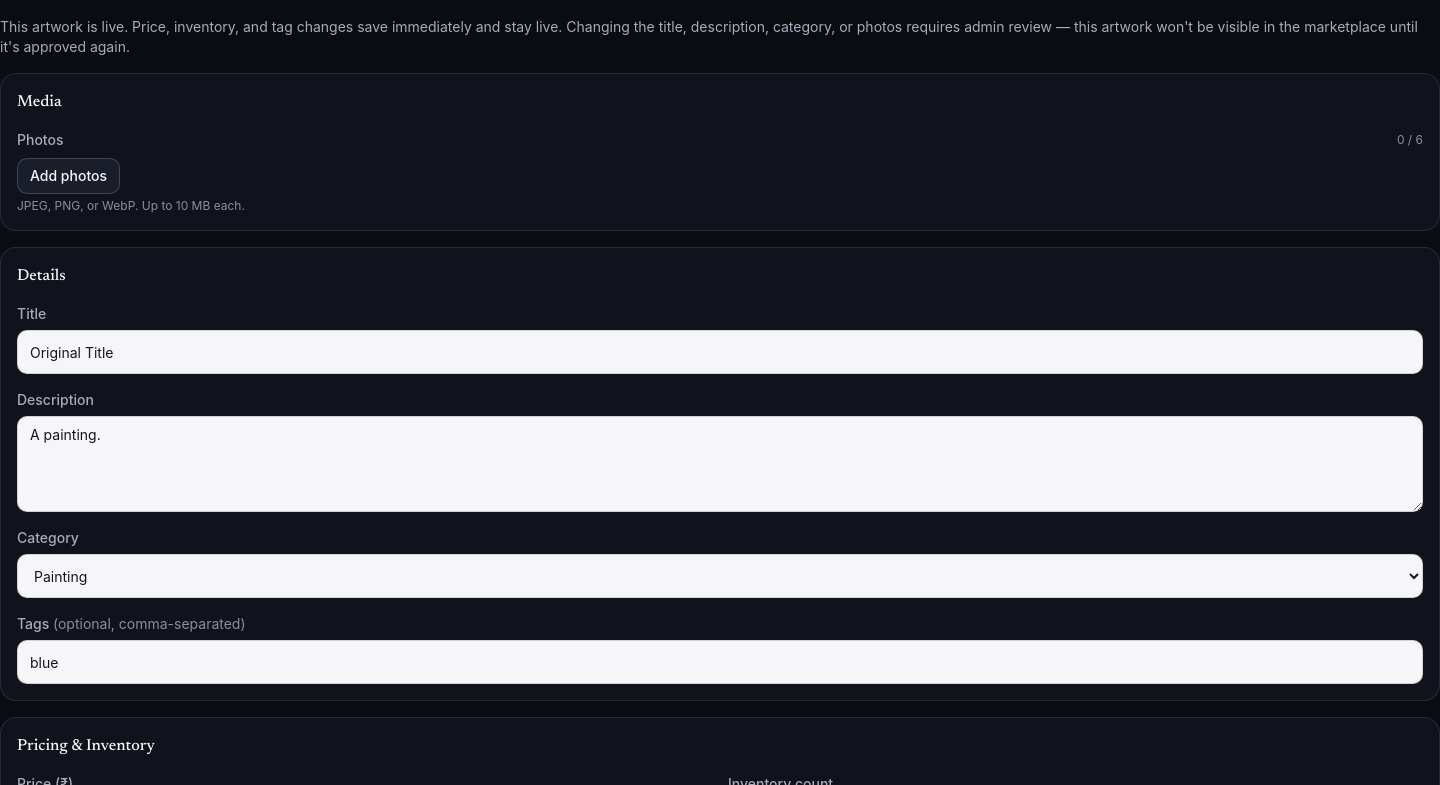
Test: ArtworkForm — edit mode (PUBLISHED, Module 13 Phase 4) › changing the title shows a confirmation before resubmitting for review — never a silent unpublish
Step 1. Replace the text in the field labelled "Title" with "New Title" → (720, 352), box [17,330,1423,374]
(page scrolled)
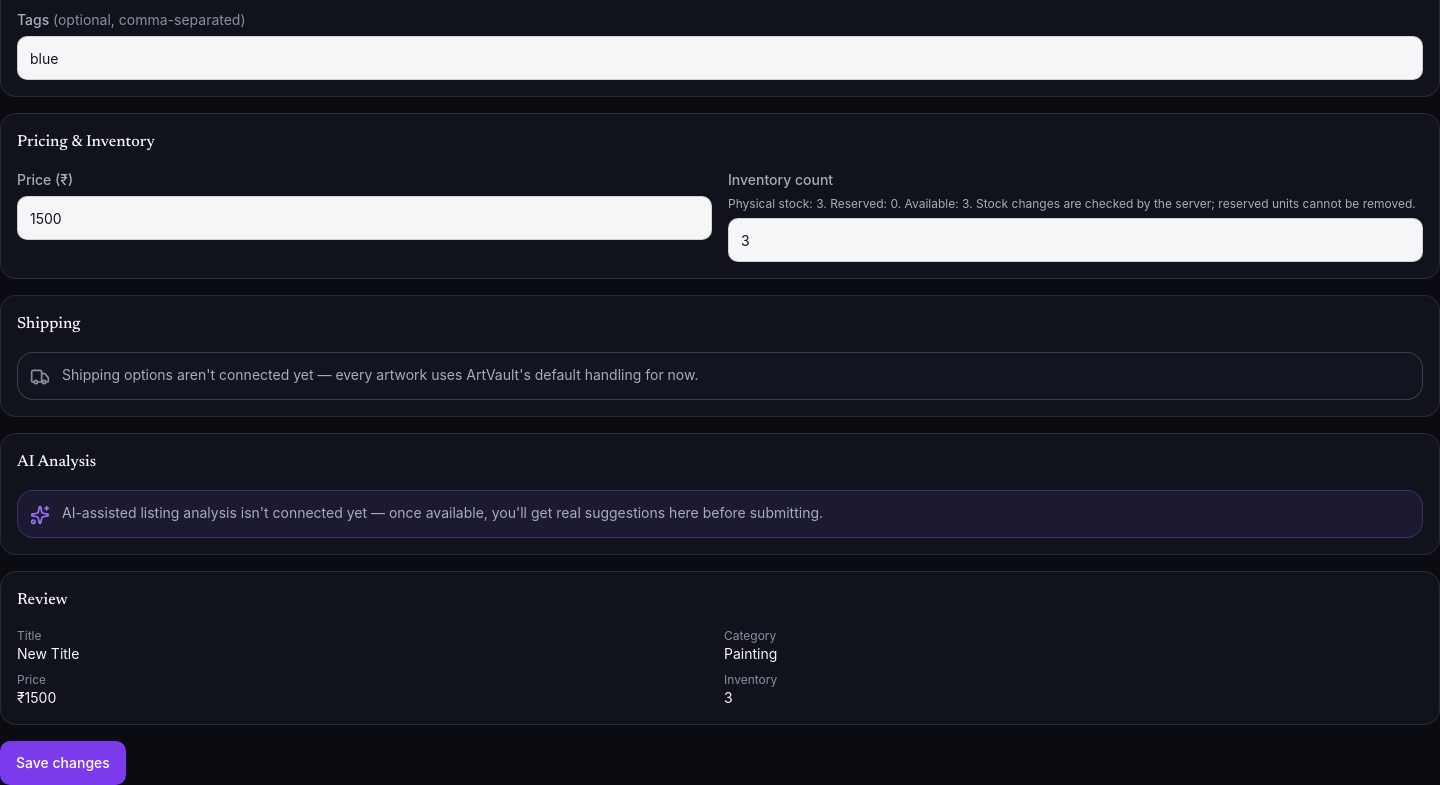
Step 2. Click the button "Save changes" → (63, 763), box [0,741,126,784]
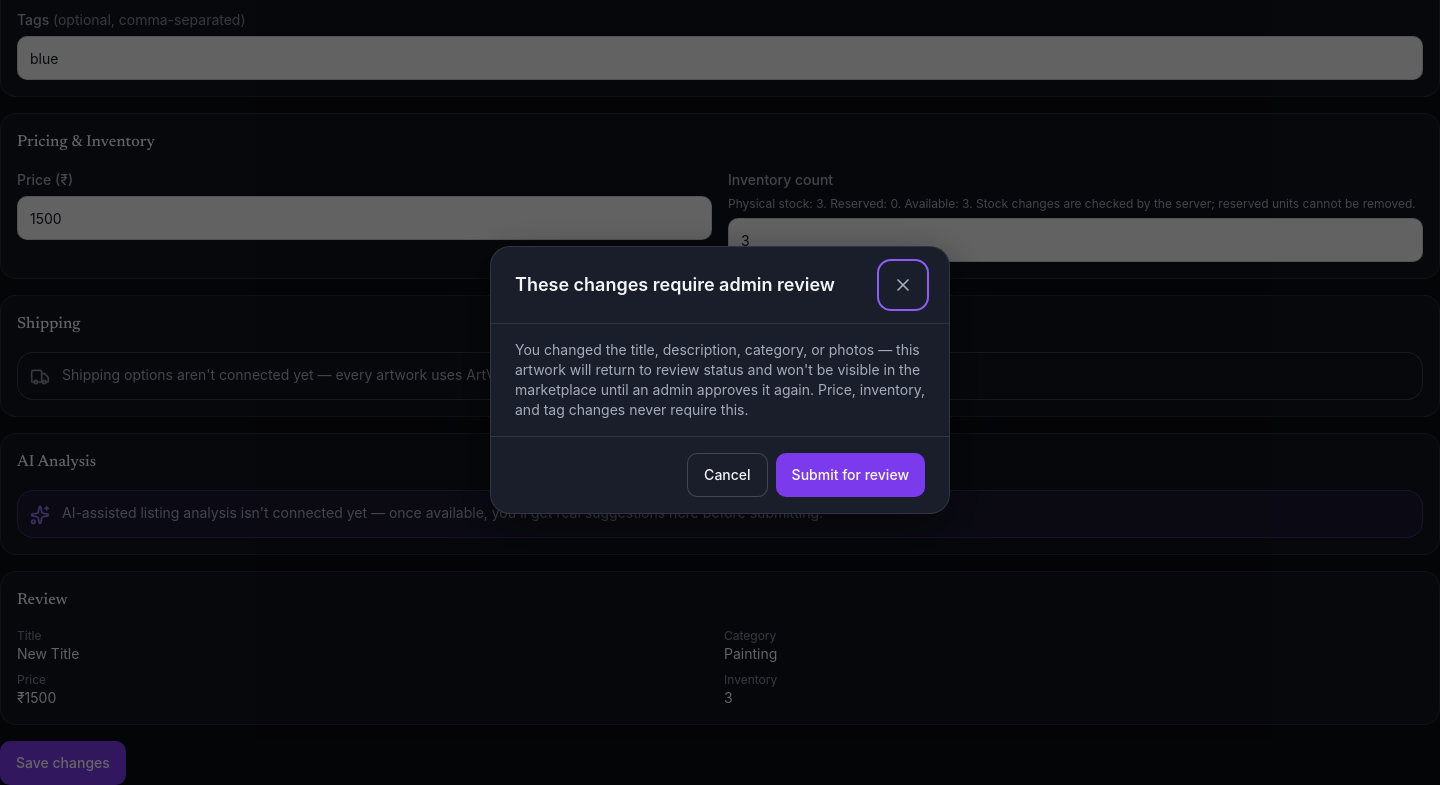
expect the dialog "require admin review" shows "won't be visible in the marketplace": met, box [515,341,925,418]
